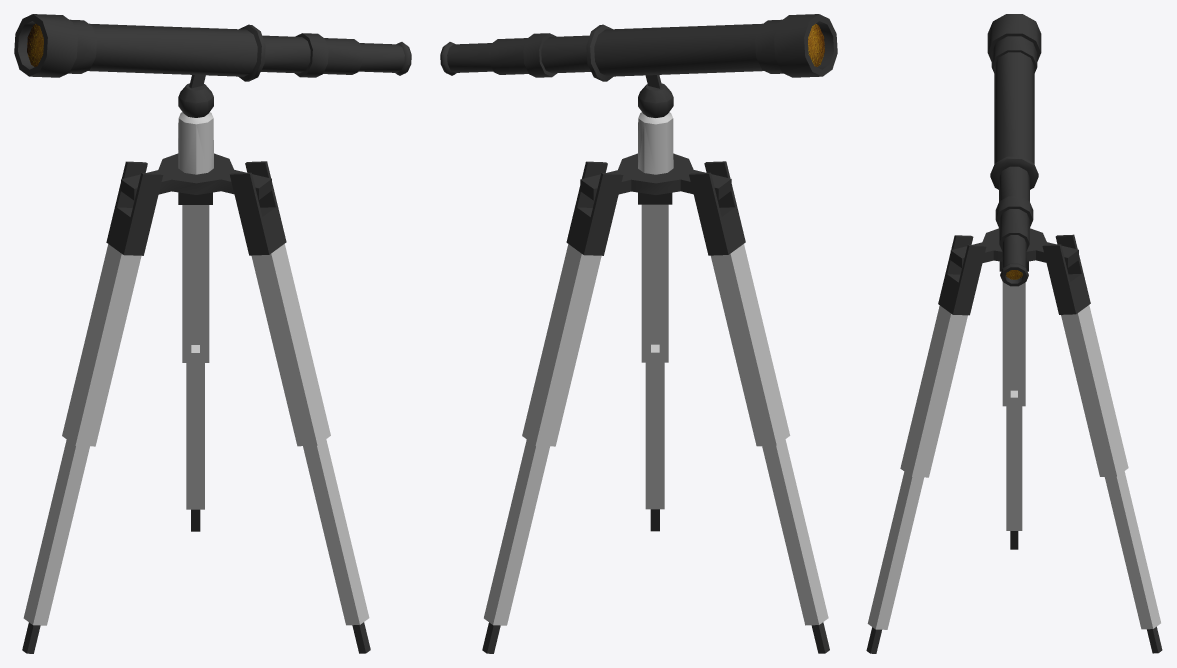
Rendered from furniture14.fbx.
3 renders of one model, left to right at view 1: azimuth 30°, elevation 25°; view 2: azimuth 150°, elevation 25°; view 3: azimuth 270°, elevation 25°, orthographic. The views are drawn at different scales.
Visible parts, largest first — view 1: Mesh; view 2: Mesh; view 3: Mesh.
Boxes of the visible parts, x1,y1,x2,y2 form: Mesh: (14,14,411,653); Mesh: (440,14,837,653); Mesh: (866,14,1162,653).
Bounding box in the file's own units: 98.38 × 156 × 77.55.
